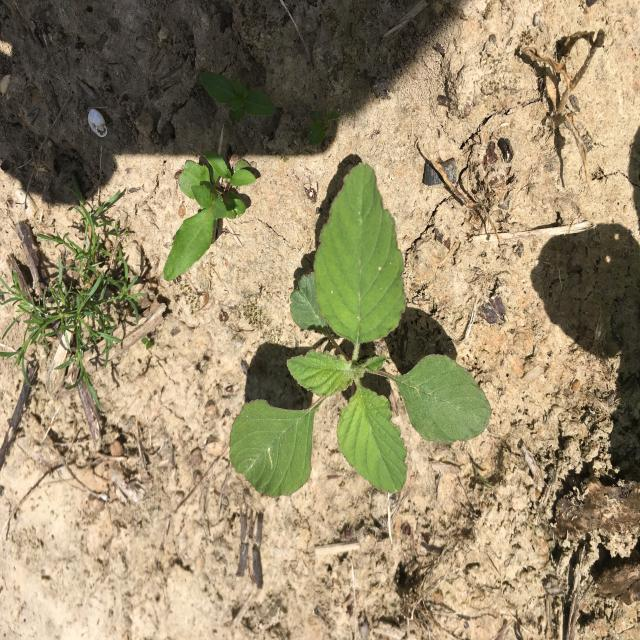Eclipta: (163, 151, 256, 281), (199, 72, 276, 126)
PalmerAmaranth: (229, 162, 492, 498)
